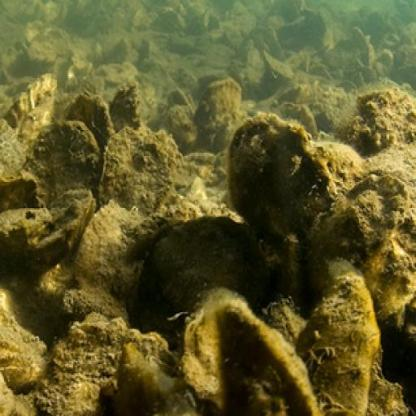3: (377, 51, 393, 68), (384, 34, 400, 46)
Oyster- Indeterminate: (183, 292, 246, 399)
Oyster-Closed: (229, 115, 336, 248), (305, 174, 409, 307), (216, 300, 325, 416), (148, 218, 270, 314), (36, 321, 158, 416), (298, 272, 378, 416), (73, 205, 155, 317), (99, 128, 183, 218), (32, 120, 104, 205), (113, 347, 200, 416), (0, 74, 57, 156), (351, 89, 416, 155), (0, 306, 47, 389), (66, 92, 116, 152), (316, 142, 367, 194), (197, 82, 241, 129), (0, 116, 28, 180), (167, 106, 200, 156), (111, 82, 140, 131), (276, 103, 315, 135), (29, 33, 66, 63), (94, 63, 138, 83), (264, 51, 293, 79), (247, 48, 264, 86), (265, 28, 284, 59), (168, 90, 195, 111), (108, 41, 129, 63), (364, 41, 375, 66), (139, 40, 150, 63)
